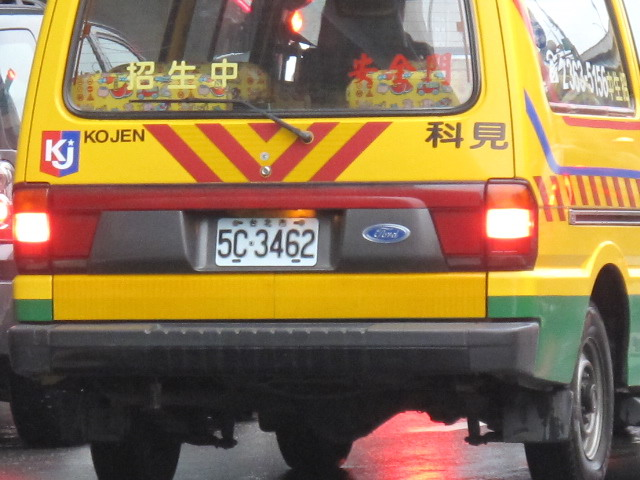plate: (213, 215, 318, 266)
